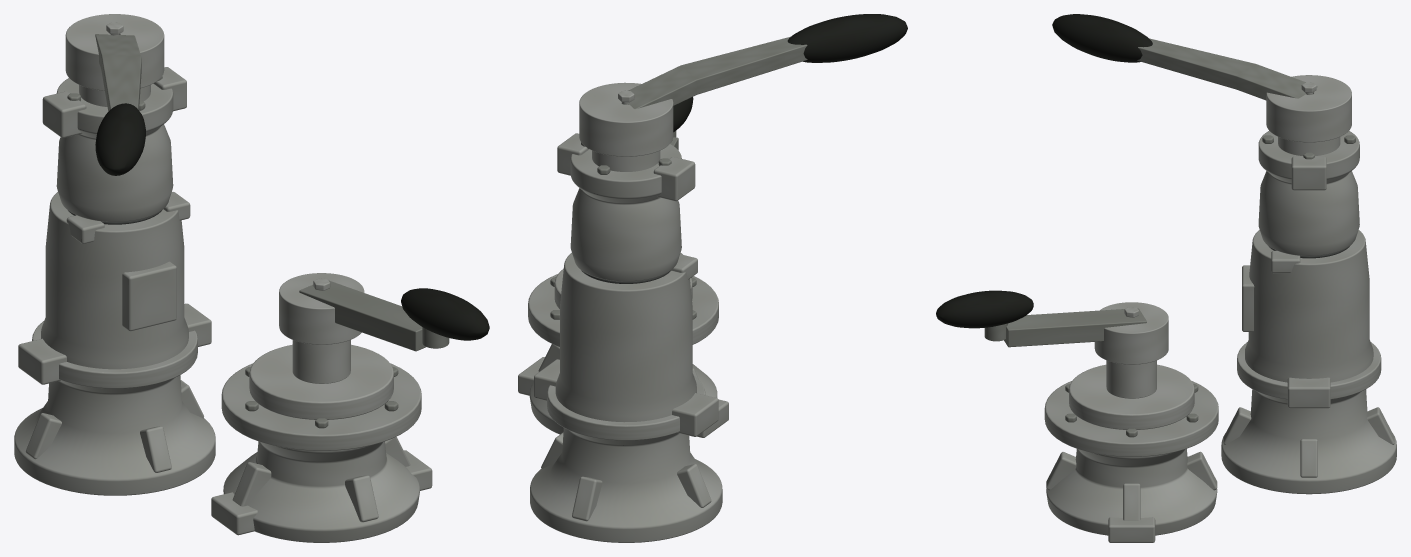
File: brake_valves_reference_with_handles.glb
3 renders of one model, left to right at view 1: azimuth 30°, elevation 25°; view 2: azimuth 150°, elevation 25°; view 3: azimuth 270°, elevation 25°, orthographic. The views are drawn at different scales.
Visible parts, largest first — view 1: Tall_Lower_Casting, Short_Lower_Casting, Tall_Upper_Casting, Short_Flange, Short_Cover, Tall_Removable_Hub, Short_Compact_Arm, Short_Removable_Hub, Tall_Front_Cast_Boss, Short_Distinct_Grip, Tall_Lower_Flange, Tall_Distinct_Grip (+13 smaller); view 2: Tall_Lower_Casting, Tall_Upper_Casting, Tall_Removable_Hub, Tall_Dogleg_Arm, Tall_Distinct_Grip, Short_Flange, Tall_Lower_Flange, Tall_Lower_Flange_Ear_1, Tall_Cap_Ear_1, Tall_Exposed_Spindle, Short_Lower_Casting, Tall_Foot_Rib_1 (+4 smaller); view 3: Tall_Lower_Casting, Short_Lower_Casting, Tall_Upper_Casting, Short_Flange, Short_Cover, Tall_Removable_Hub, Tall_Dogleg_Arm, Short_Compact_Arm, Short_Removable_Hub, Tall_Distinct_Grip, Short_Distinct_Grip, Tall_Lower_Flange (+12 smaller).
Boxes of the visible parts, x1,y1,x2,y2 form: Tall_Lower_Casting: [14, 192, 215, 495]; Short_Lower_Casting: [223, 441, 419, 542]; Tall_Upper_Casting: [56, 78, 173, 221]; Short_Flange: [221, 363, 421, 450]; Short_Cover: [249, 344, 393, 419]; Tall_Removable_Hub: [65, 14, 164, 90]; Short_Compact_Arm: [299, 280, 425, 351]; Short_Removable_Hub: [279, 273, 364, 344]; Tall_Front_Cast_Boss: [122, 261, 176, 331]; Short_Distinct_Grip: [401, 288, 489, 340]; Tall_Lower_Flange: [32, 321, 197, 388]; Tall_Distinct_Grip: [95, 103, 145, 175]; Tall_Lower_Casting: [530, 252, 722, 542]; Tall_Upper_Casting: [570, 144, 681, 281]; Tall_Removable_Hub: [579, 82, 673, 156]; Tall_Dogleg_Arm: [628, 36, 807, 109]; Tall_Distinct_Grip: [787, 14, 907, 62]; Short_Flange: [528, 274, 718, 346]; Tall_Lower_Flange: [547, 376, 705, 440]; Tall_Lower_Flange_Ear_1: [672, 393, 718, 436]; Tall_Cap_Ear_1: [653, 157, 695, 201]; Tall_Exposed_Spindle: [592, 150, 660, 171]; Short_Lower_Casting: [529, 364, 717, 434]; Tall_Foot_Rib_1: [572, 476, 602, 521]; Tall_Lower_Casting: [1221, 230, 1396, 494]; Short_Lower_Casting: [1046, 448, 1217, 535]; Tall_Upper_Casting: [1258, 131, 1359, 255]; Short_Flange: [1044, 381, 1218, 456]; Short_Cover: [1069, 364, 1194, 429]; Tall_Removable_Hub: [1266, 75, 1351, 142]; Tall_Dogleg_Arm: [1137, 38, 1317, 100]; Short_Compact_Arm: [1004, 308, 1146, 347]; Short_Removable_Hub: [1094, 302, 1168, 364]; Tall_Distinct_Grip: [1052, 14, 1152, 62]; Short_Distinct_Grip: [936, 290, 1033, 328]; Tall_Lower_Flange: [1237, 342, 1381, 399].
Size of the model in its own units: 0.1825 by 0.2205 by 0.2364.
Materials: 5 (4 with a texture image).
